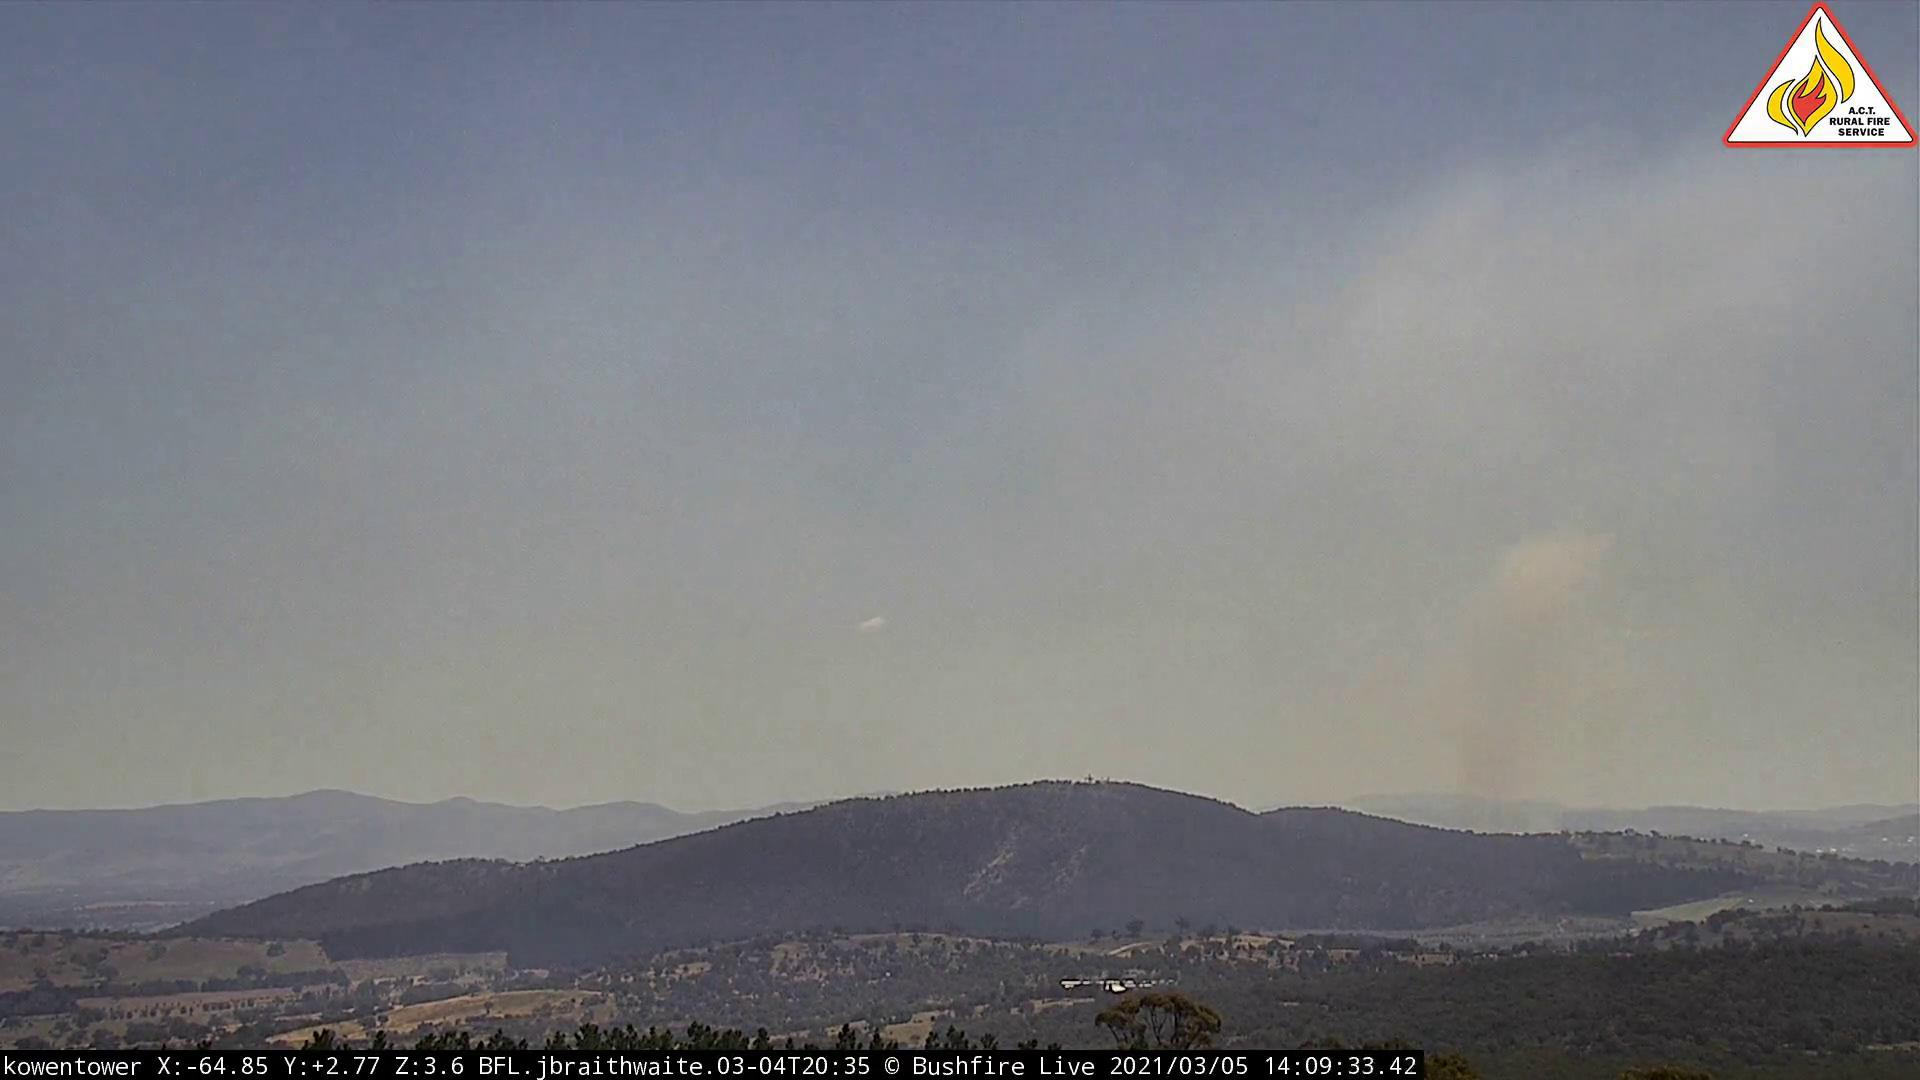Smoke: (1346, 531, 1659, 841)
